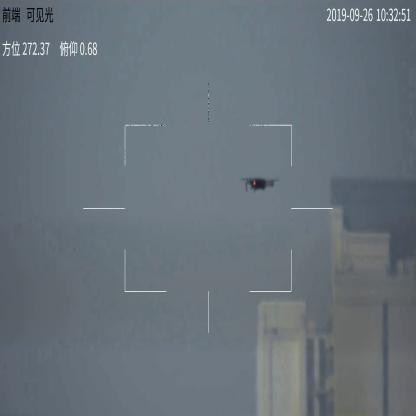uav: (238, 174, 280, 193)
